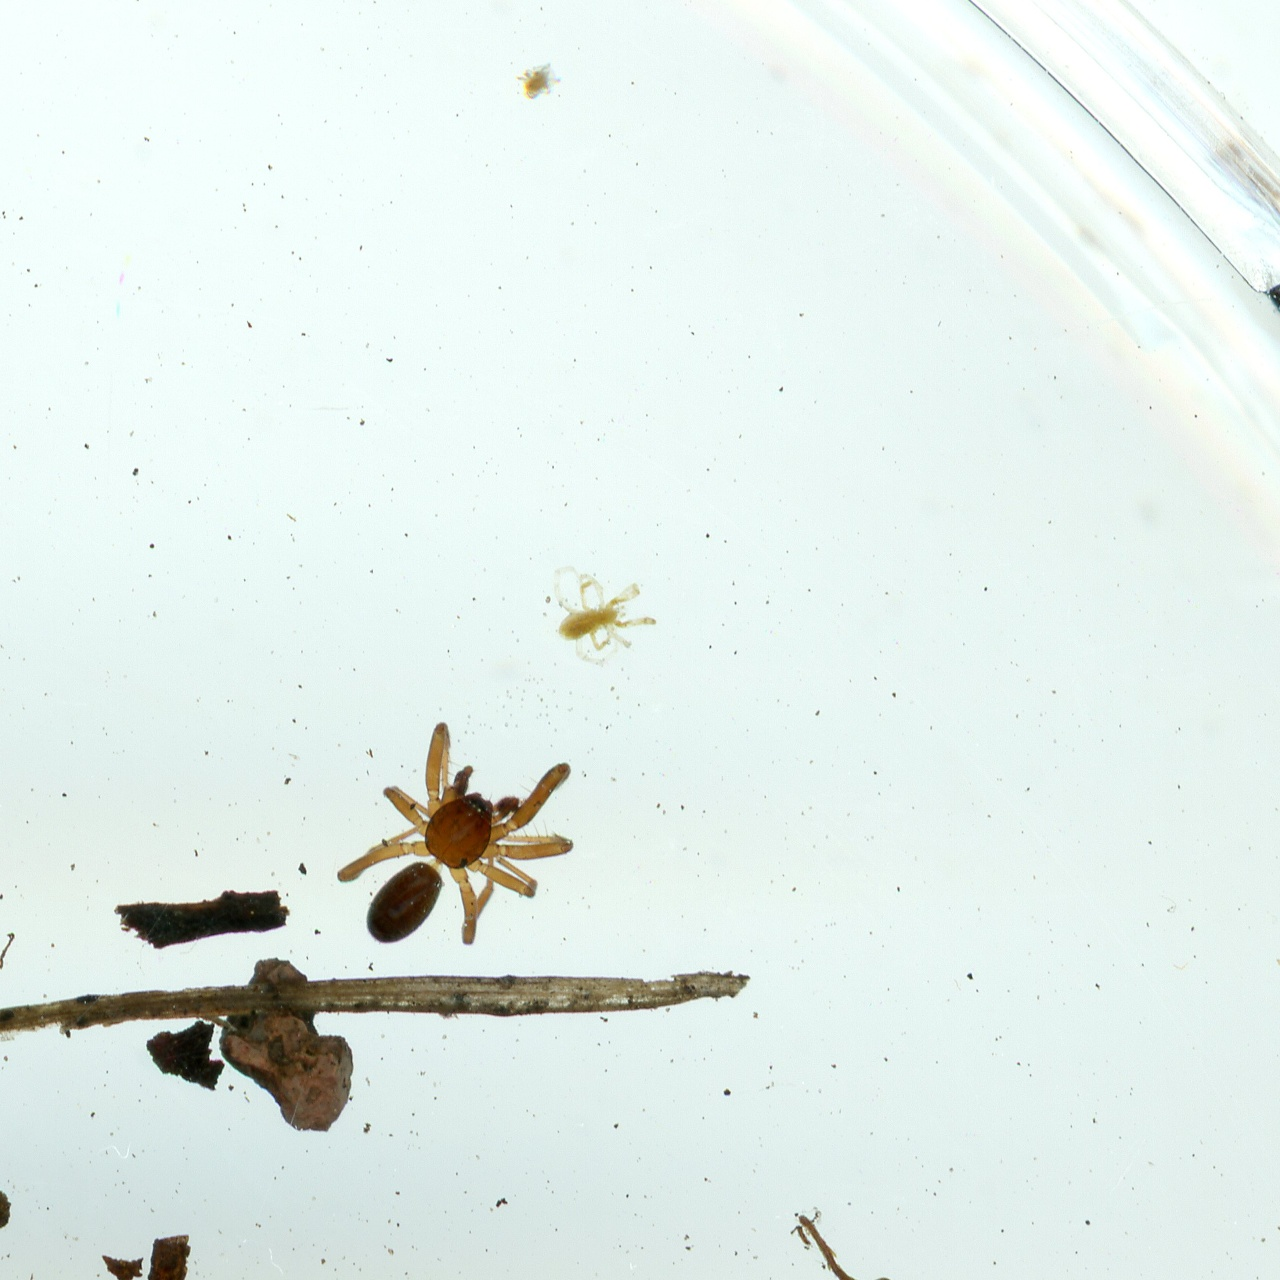arthropod: (331, 718, 584, 950), (536, 561, 662, 675), (1243, 246, 1280, 396), (513, 56, 565, 105)
